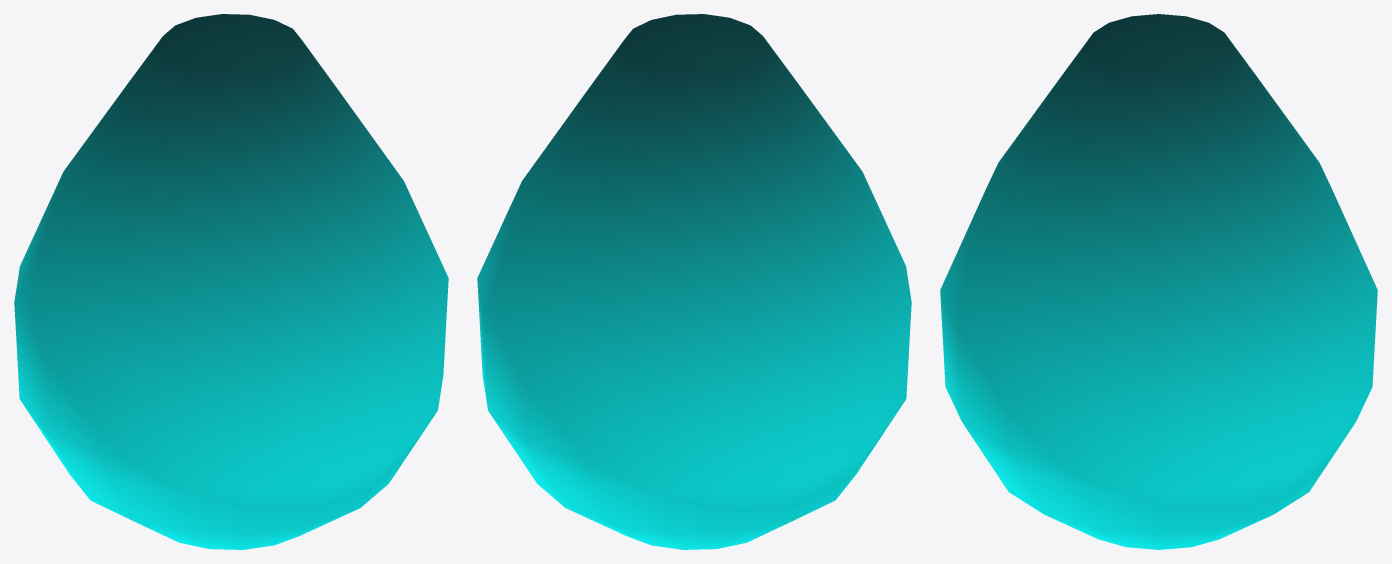
File: WaterDrop_80.glb
3 renders of one model, left to right at view 1: azimuth 30°, elevation 25°; view 2: azimuth 150°, elevation 25°; view 3: azimuth 270°, elevation 25°, orthographic.
Visible parts, largest first — view 1: WaterDrop_80; view 2: WaterDrop_80; view 3: WaterDrop_80.
Part boxes in pixels (x1,y1,x2,y2): WaterDrop_80: (14,14,448,549); WaterDrop_80: (477,14,911,549); WaterDrop_80: (940,14,1377,549).
Bounding box in the file's own units: 0.5885 × 0.712 × 0.5885.
Materials: 1 (1 with a texture image).
